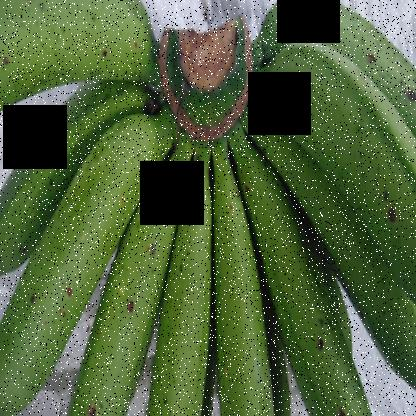unripe: (277, 31, 415, 312), (135, 167, 224, 415), (198, 132, 272, 415), (0, 0, 171, 105)
